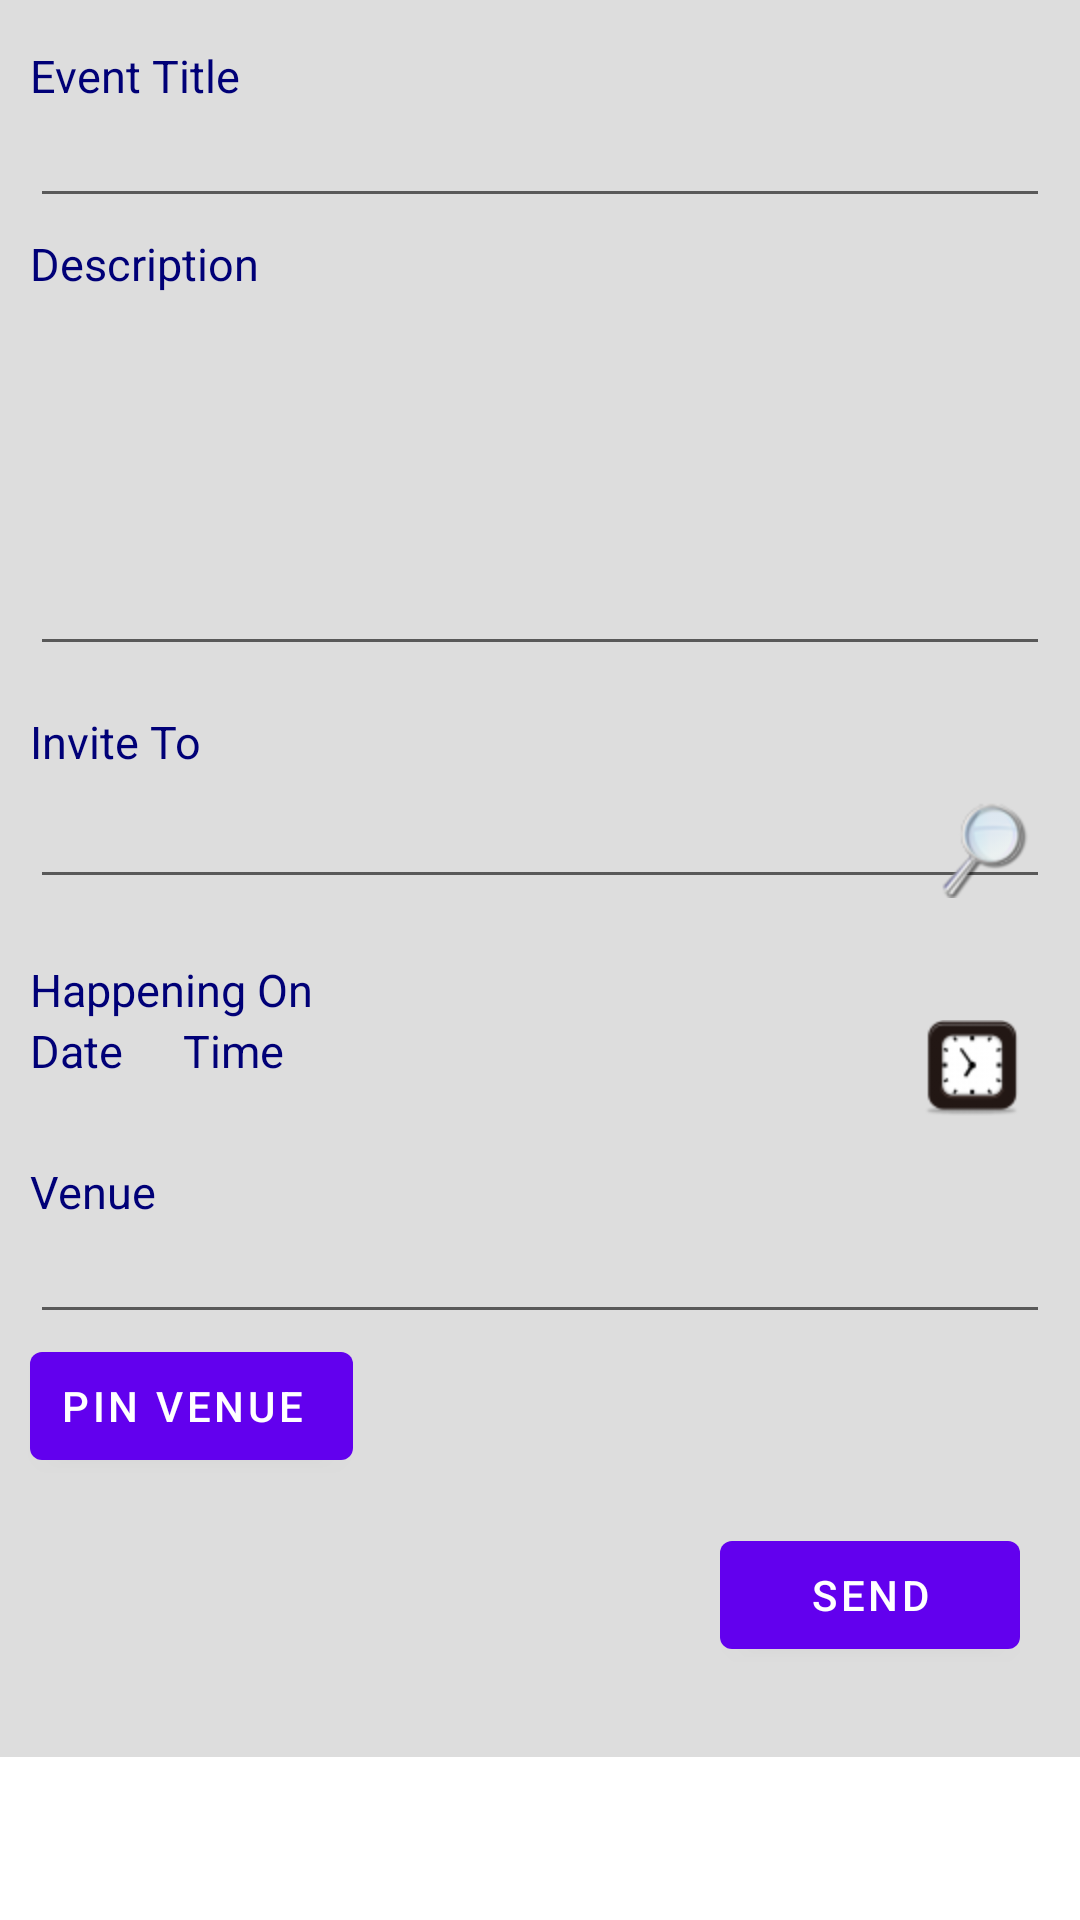

Screen size 1080px x 1920px. Icon name, then its box in pixels as (x1, y1, x2, y2):
search: (939, 805, 1038, 898)
time: (927, 1020, 1017, 1114)
